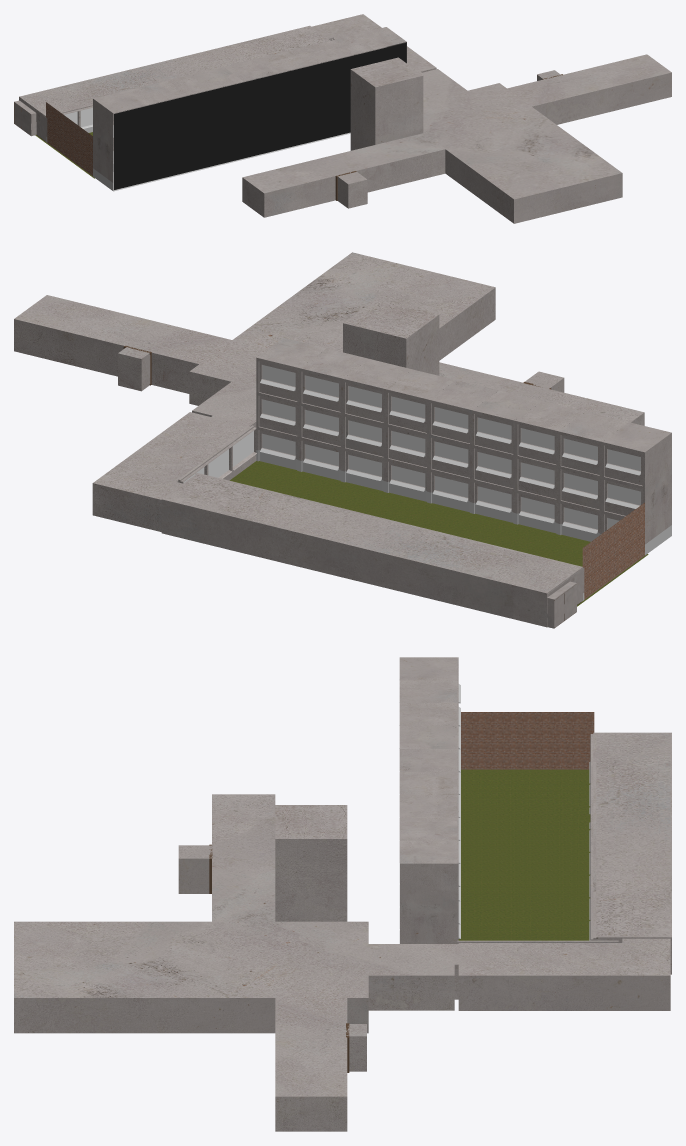
Rendered from XIrumai_06.fbx.
3 views of the same model, one above another, from view 1: azimuth 30°, elevation 25°; view 2: azimuth 150°, elevation 25°; view 3: azimuth 270°, elevation 25° (orthographic). The views are drawn at different scales.
Parts seen in each view (by area): view 1: Main_koridorius, Siena, Koridorius_auditorijos, Siena_brick, Backwall; view 2: Siena, Main_koridorius, Koridorius_auditorijos, Zole, Siena_brick, Backwall; view 3: Main_koridorius, Zole, Siena, Koridorius_auditorijos, Siena_brick.
Boxes of the visible parts, x1,y1,x2,y2 form: Main_koridorius: (242, 14, 671, 223); Siena: (93, 27, 406, 191); Koridorius_auditorijos: (19, 25, 329, 142); Siena_brick: (46, 102, 92, 175); Backwall: (14, 98, 45, 141); Siena: (256, 338, 671, 555); Main_koridorius: (14, 252, 644, 531); Koridorius_auditorijos: (161, 473, 584, 627); Zole: (230, 461, 648, 606); Siena_brick: (582, 502, 644, 599); Backwall: (547, 568, 582, 628); Main_koridorius: (14, 794, 670, 1131); Zole: (458, 769, 590, 940); Siena: (399, 657, 460, 943); Koridorius_auditorijos: (589, 732, 671, 974); Siena_brick: (461, 712, 594, 769).
Bounding box in the file's own units: 95.27 × 14.44 × 72.32.
